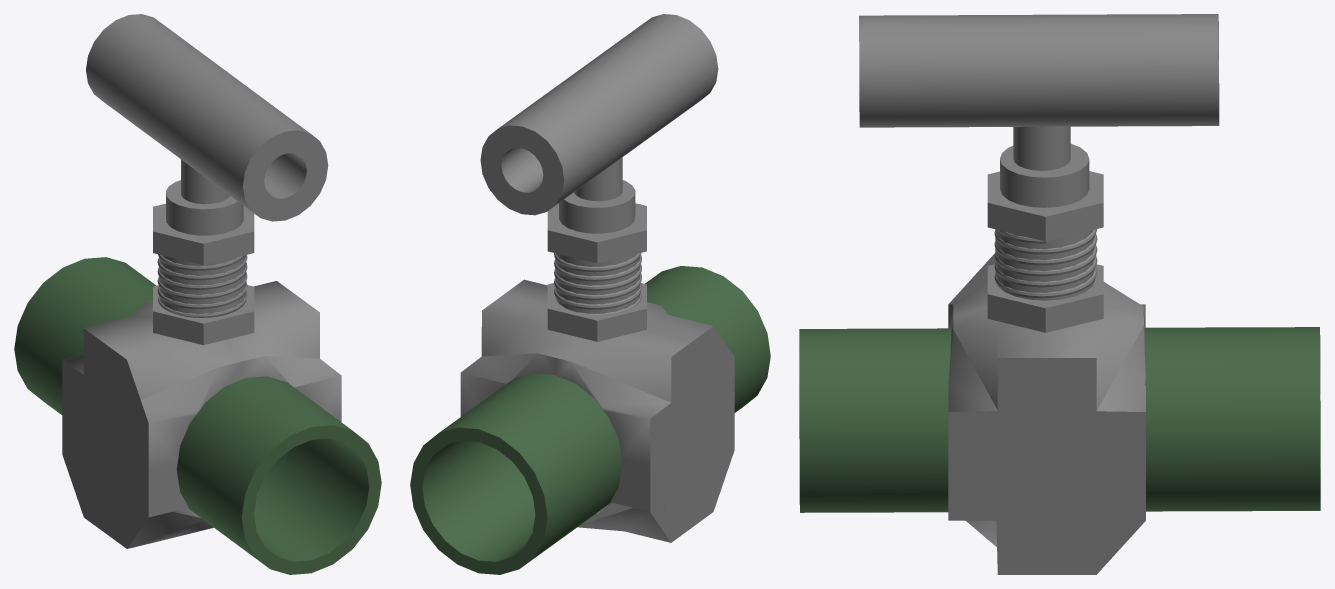
File: NeedleValve.fbx
The picture shows the model from 3 angles, left to right: view 1: azimuth 30°, elevation 25°; view 2: azimuth 150°, elevation 25°; view 3: azimuth 270°, elevation 25°; orthographic projection. The views are drawn at different scales.
Visible parts, largest first — view 1: pPipe2, pCube2, pPipe3, pDisc2, pDisc1, pHelix1, pCylinder2, pCylinder1, pCylinder3; view 2: pPipe2, pCube2, pPipe3, pDisc2, pHelix1, pDisc1, pCylinder2, pCylinder1, pCylinder3; view 3: pPipe2, pCube2, pPipe3, pDisc2, pDisc1, pCylinder2, pHelix1, pCylinder1, pCylinder3.
Boxes of the visible parts, x1,y1,x2,y2 form: pPipe2: [14, 257, 381, 574]; pCube2: [62, 281, 341, 548]; pPipe3: [86, 14, 328, 221]; pDisc2: [153, 203, 254, 265]; pDisc1: [153, 285, 254, 345]; pHelix1: [157, 254, 247, 317]; pCylinder2: [166, 180, 243, 235]; pCylinder1: [160, 255, 246, 314]; pCylinder3: [181, 159, 229, 204]; pPipe2: [410, 266, 770, 574]; pCube2: [460, 279, 734, 542]; pPipe3: [480, 14, 718, 215]; pDisc2: [547, 203, 646, 263]; pHelix1: [554, 253, 641, 315]; pDisc1: [547, 283, 646, 341]; pCylinder2: [559, 180, 635, 233]; pCylinder1: [555, 253, 640, 313]; pCylinder3: [574, 157, 622, 201]; pPipe2: [799, 327, 1320, 512]; pCube2: [948, 253, 1145, 574]; pPipe3: [859, 14, 1219, 127]; pDisc2: [987, 171, 1103, 241]; pDisc1: [987, 264, 1103, 332]; pCylinder2: [1000, 143, 1089, 207]; pHelix1: [994, 229, 1097, 298]; pCylinder1: [995, 229, 1095, 300]; pCylinder3: [1013, 126, 1070, 170].
Bounding box in the file's own units: 2.76 × 6 × 5.63.
